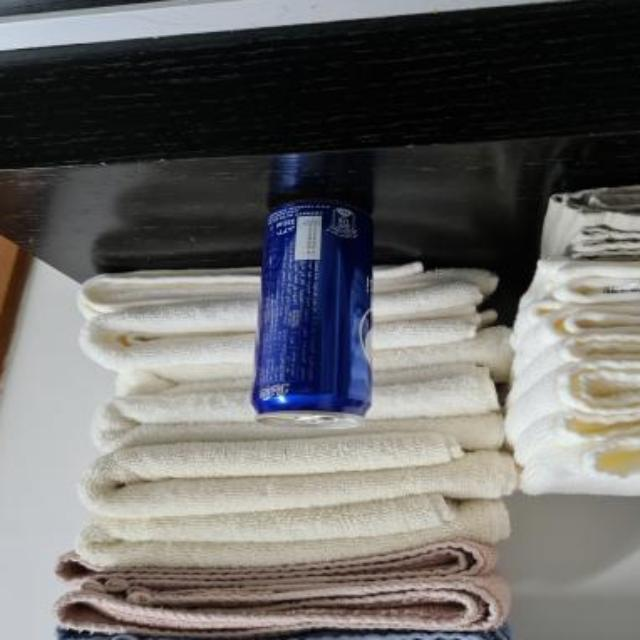metal: (256, 203, 374, 429)
